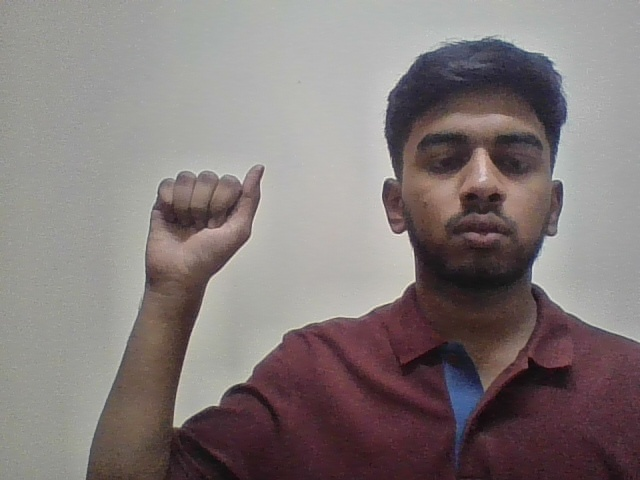A: (129, 153, 279, 300)
